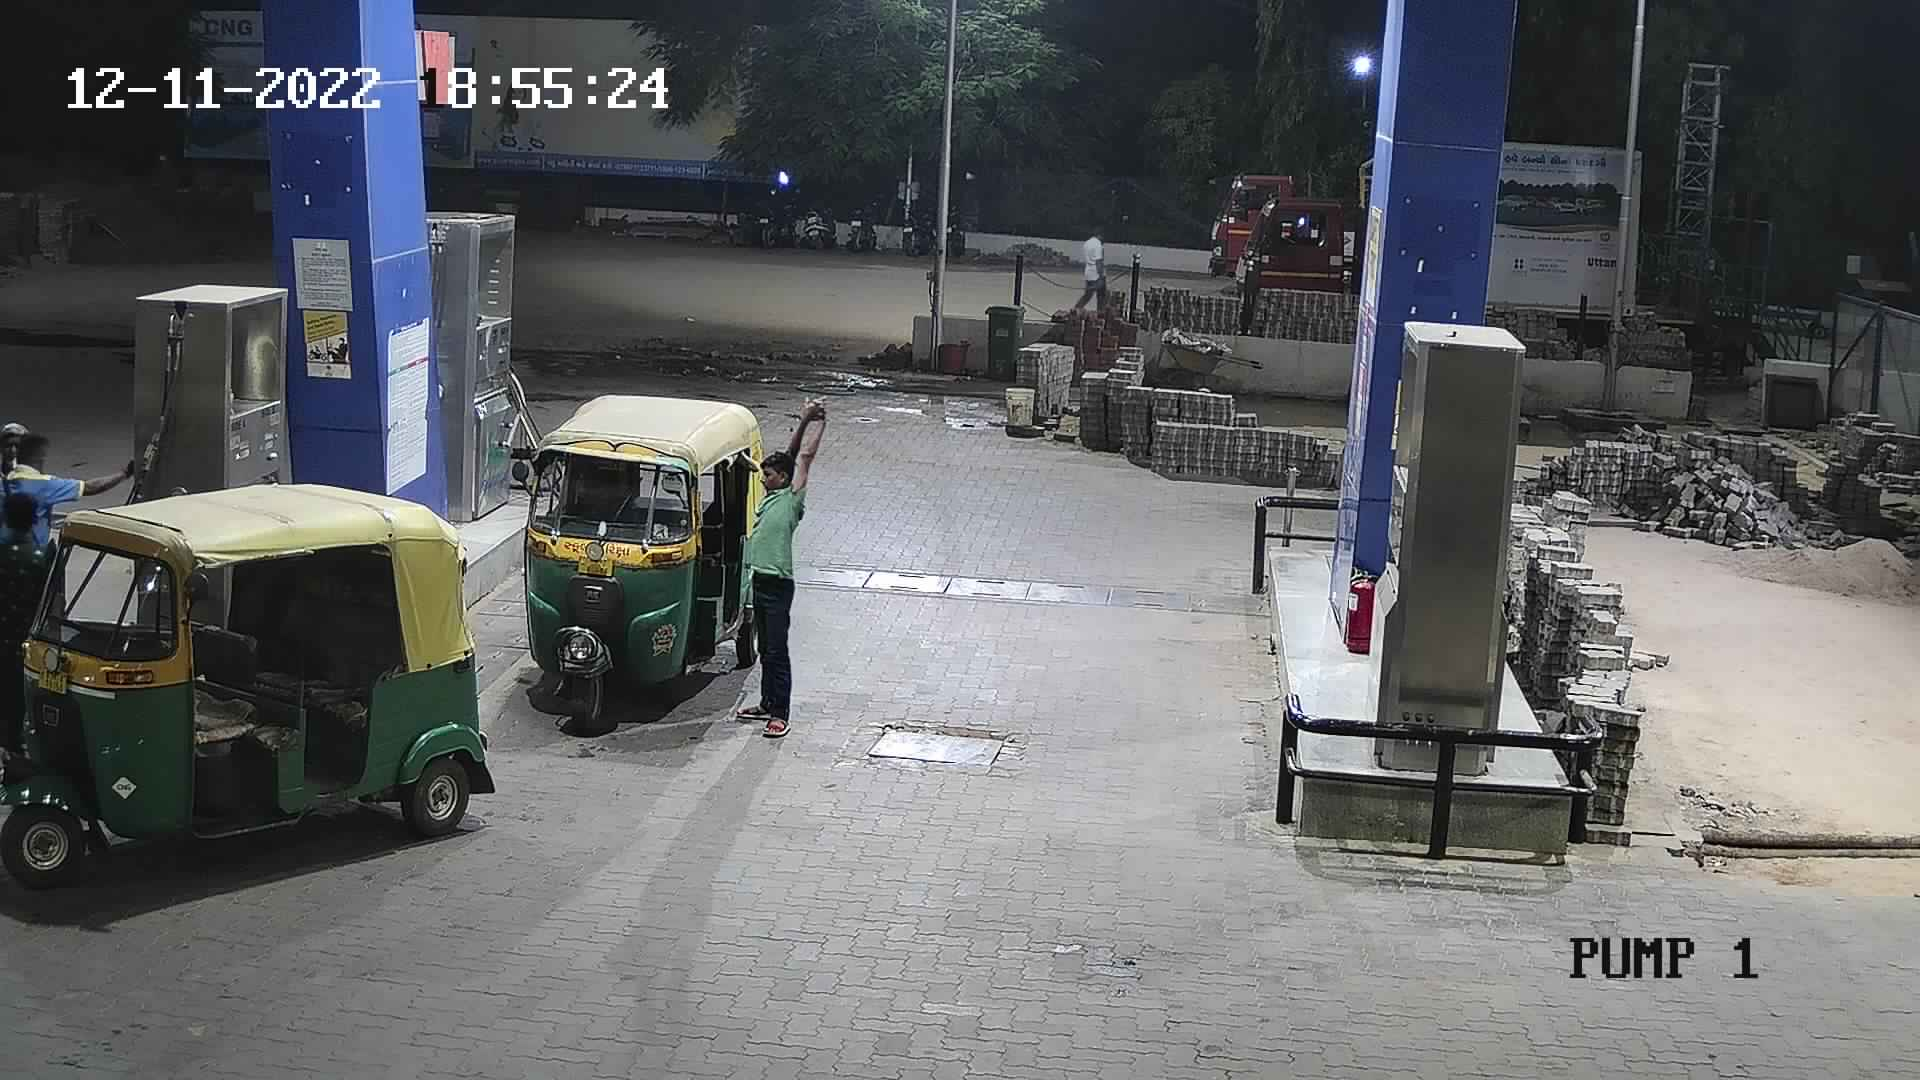Auto: (15, 454, 476, 907), (514, 373, 766, 731)
Bike: (738, 181, 802, 258), (895, 181, 943, 262), (837, 191, 891, 260), (796, 179, 845, 255)
HMV: (1200, 146, 1373, 290), (1226, 182, 1371, 320)
Others: (1, 422, 84, 647)
